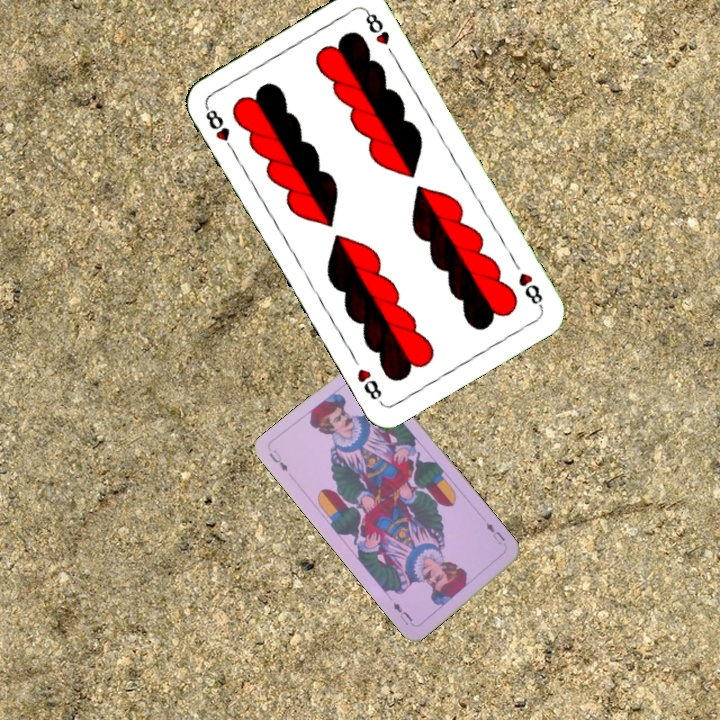EU: (482, 518, 508, 547), (265, 446, 291, 475)
H8: (201, 102, 238, 156), (514, 268, 546, 311)
